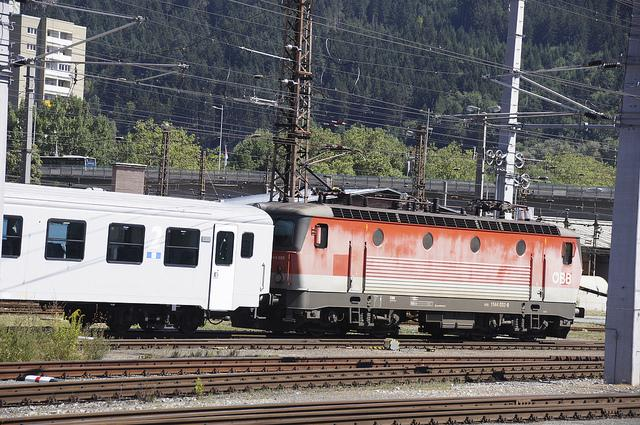Train: (231, 202, 583, 345), (1, 180, 276, 333)
